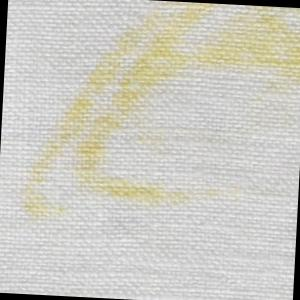Stain: (19, 1, 300, 235)
